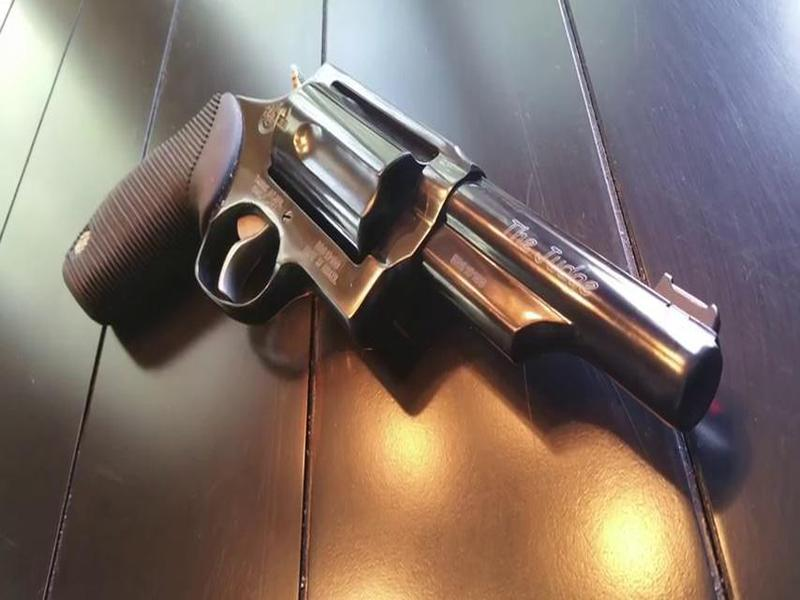Revolver: (77, 48, 727, 459)
